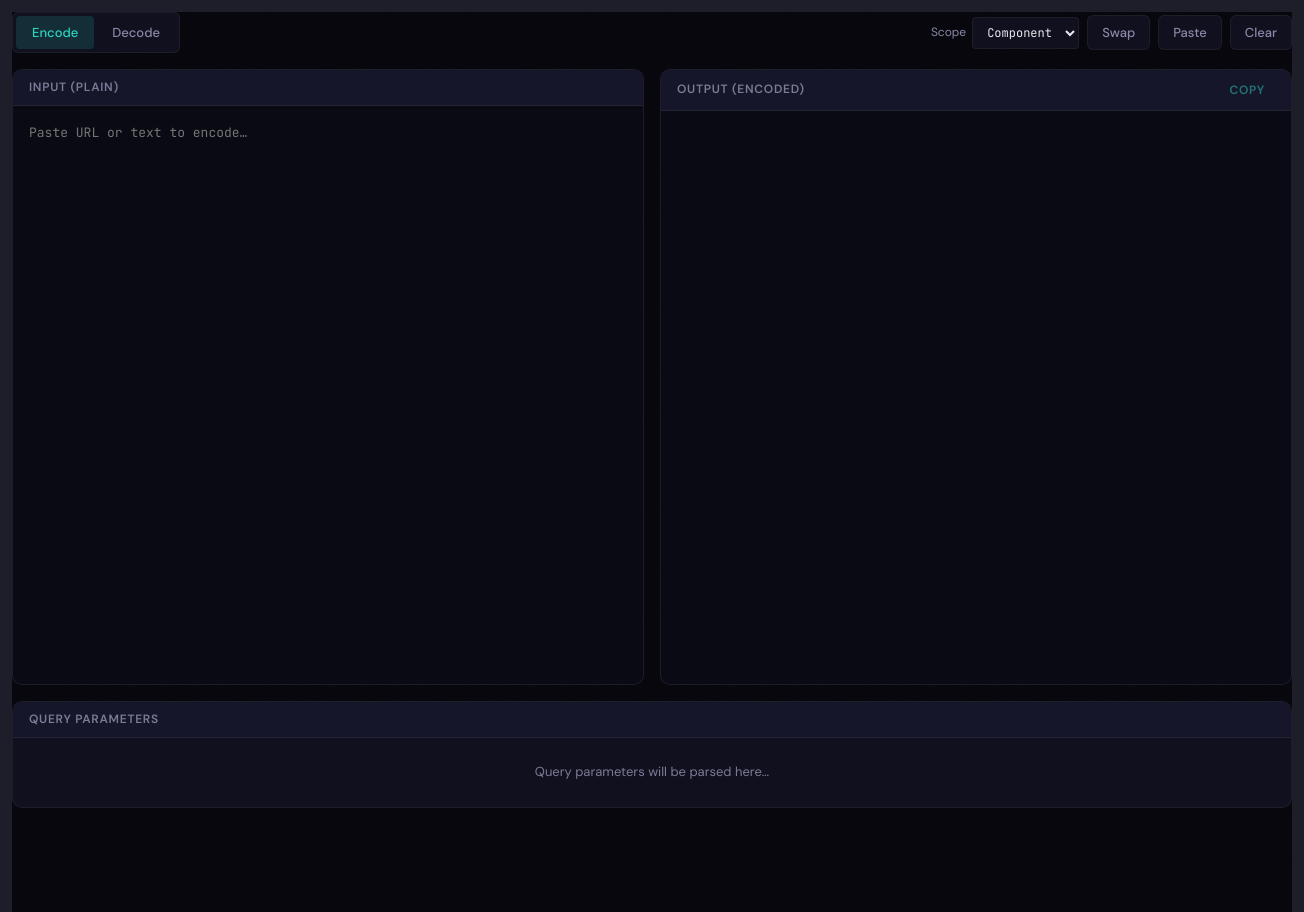
Test: UrlCodec › shows query parameters table
The image size is (1304, 912).
Type "https://example.com?name=Chris&lang=ts" into the text box named "plain text input" at [328, 395], box x1=13 y1=106 x2=643 y2=684
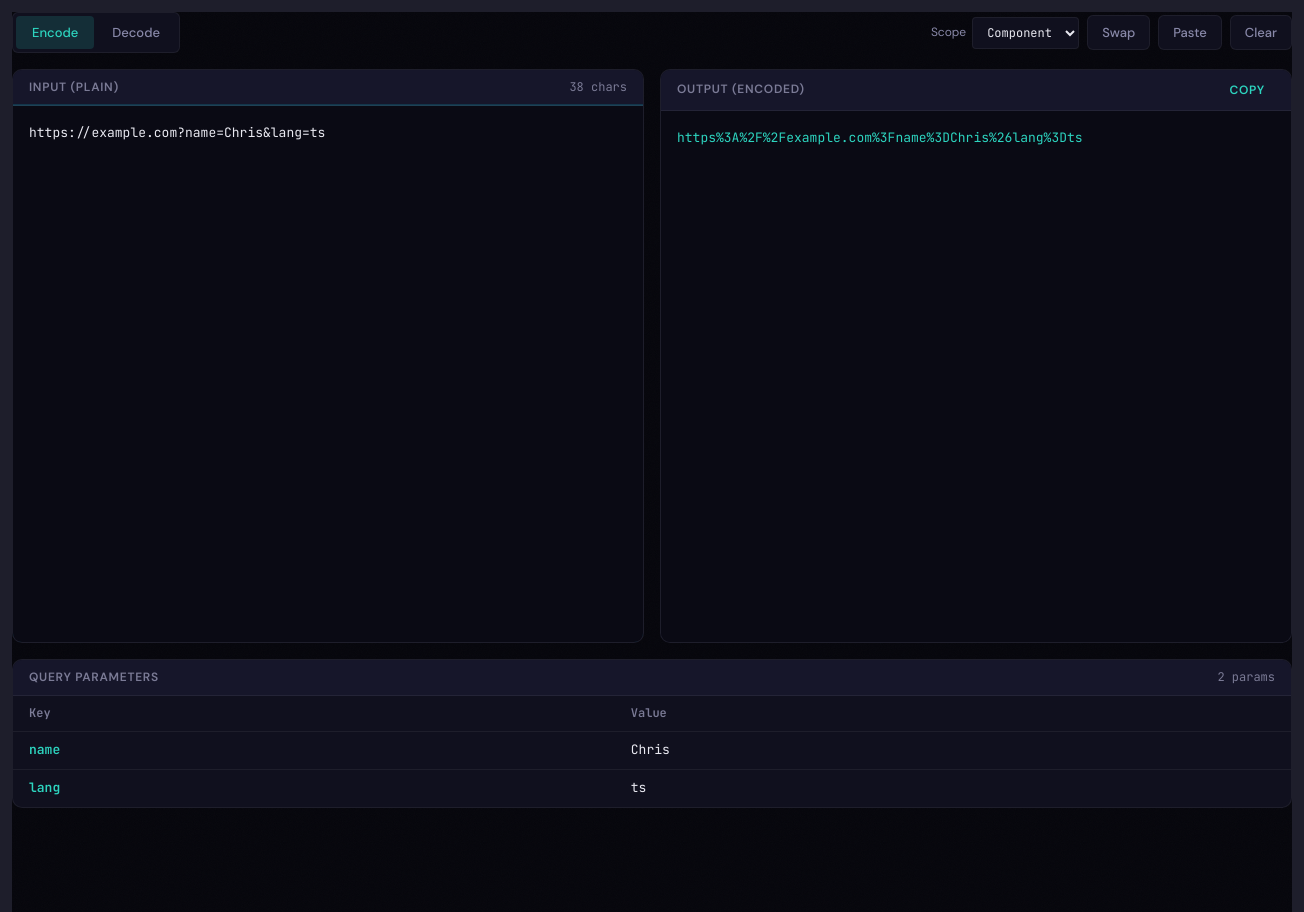
Expected: the text "name" is shown, x1=13 y1=732 x2=615 y2=770
Expected: the text "Chris" is shown, x1=615 y1=732 x2=1291 y2=770
Expected: the text "lang" is shown, x1=13 y1=770 x2=615 y2=807
